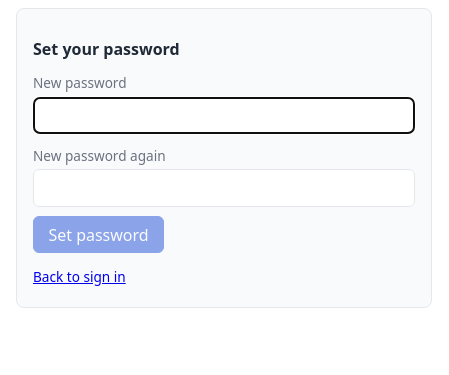
Test: /reset-password/:uid/:token › shows an expired token’s refusal
Expected: the button "Set password" is shown, [33, 216, 164, 253]
Type "hunter2" into the password field labelled "New password" at (224, 115), box [33, 97, 415, 134]
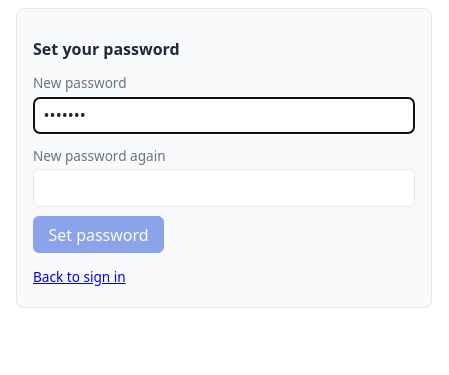
Type "hunter2" into the password field labelled "New password again" at (224, 188), box [33, 169, 415, 206]
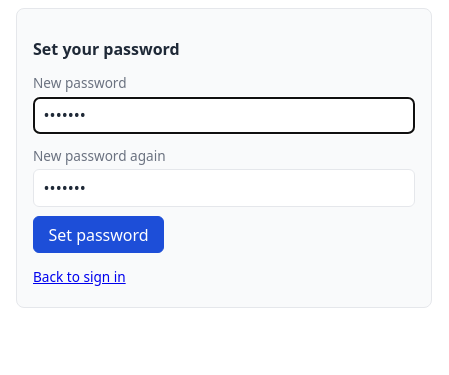
Click the button "Set password" at (99, 235), box [33, 216, 164, 253]
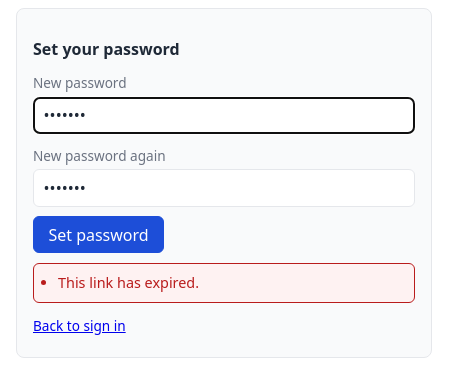
Now the list item "This link has expired." is shown, box [58, 273, 199, 292]
